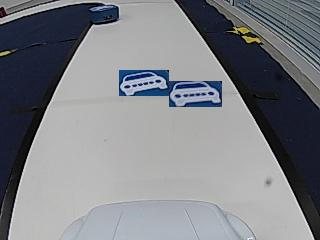prop: (90, 5, 118, 24)
